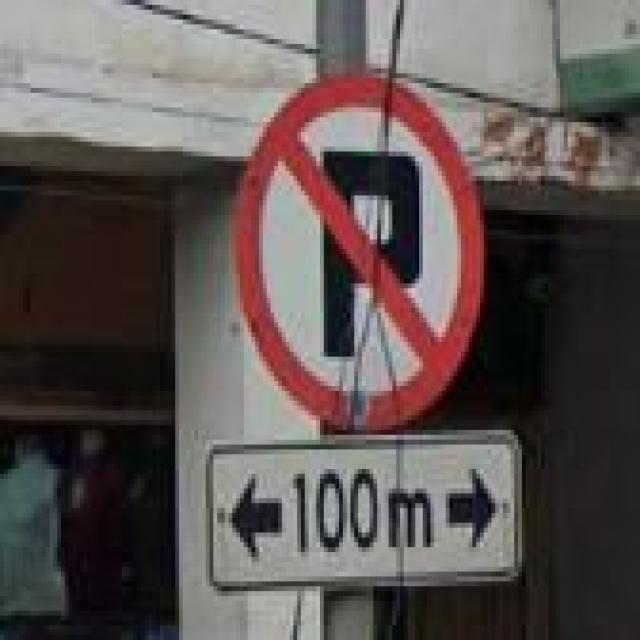traffic sign: (236, 73, 488, 430)
